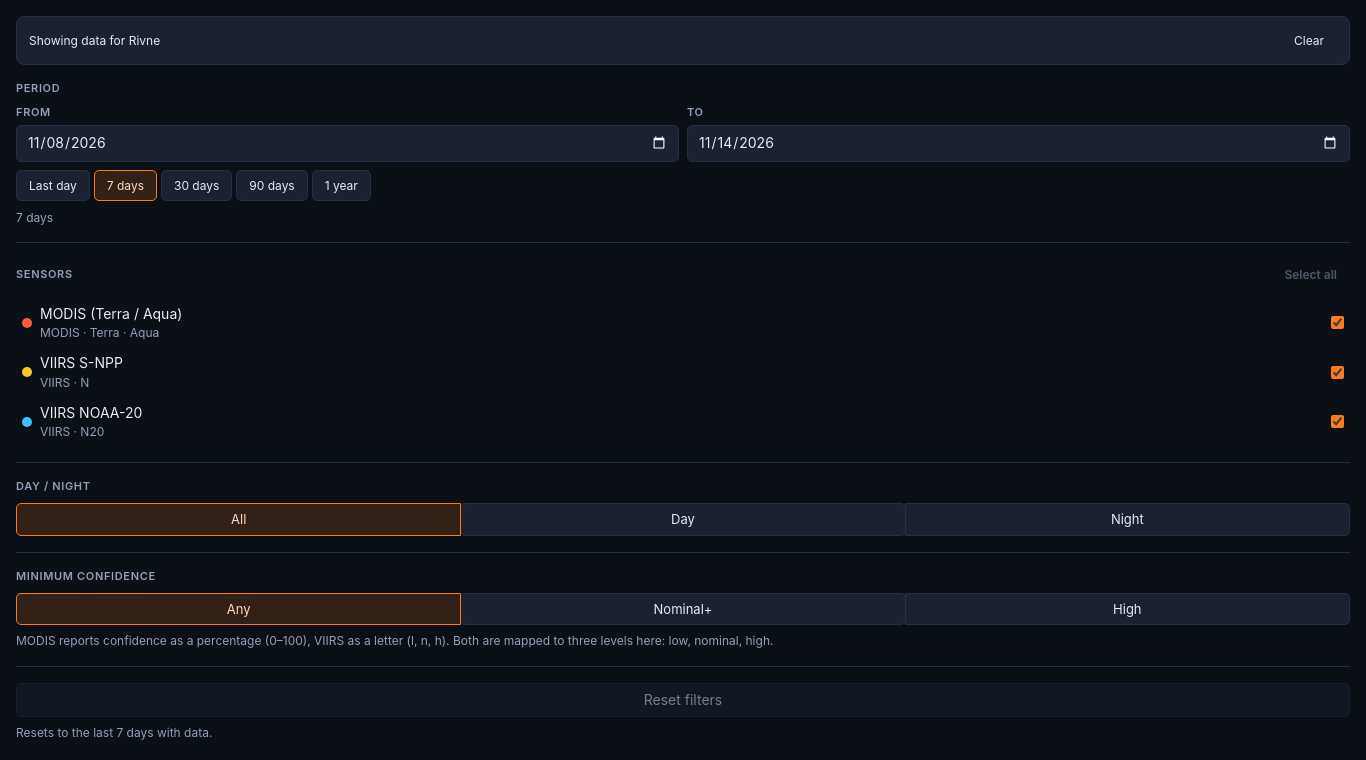
Test: FiltersPanel › shows the selected place and clears it
Check: the text "Showing data for Rivne" is shown, box [29, 32, 160, 49]
Click the button "Clear". click: click(1309, 41)
box: [1281, 25, 1337, 56]
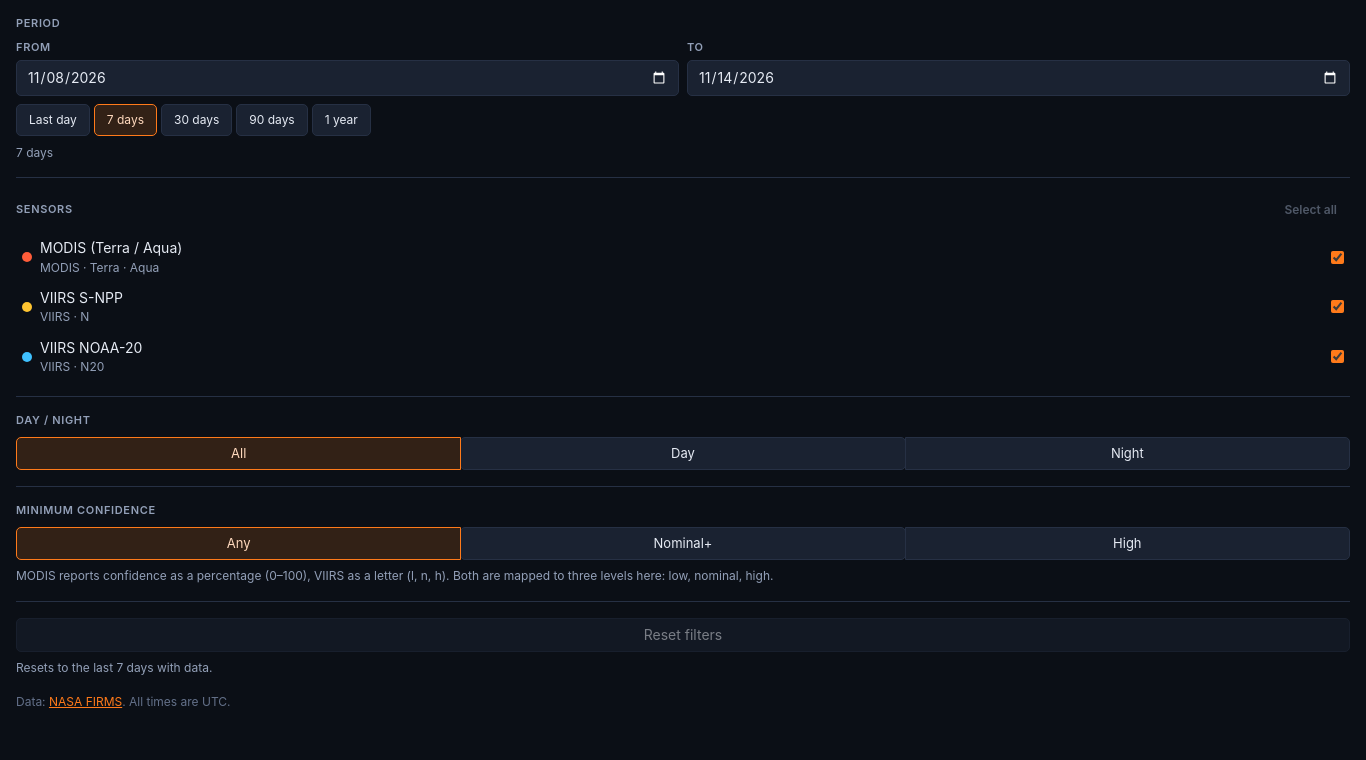
Check: the text "Showing data for" is gone
